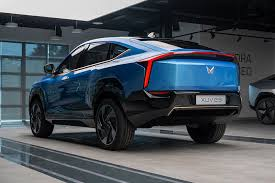XUV 400: (27, 33, 244, 151)
